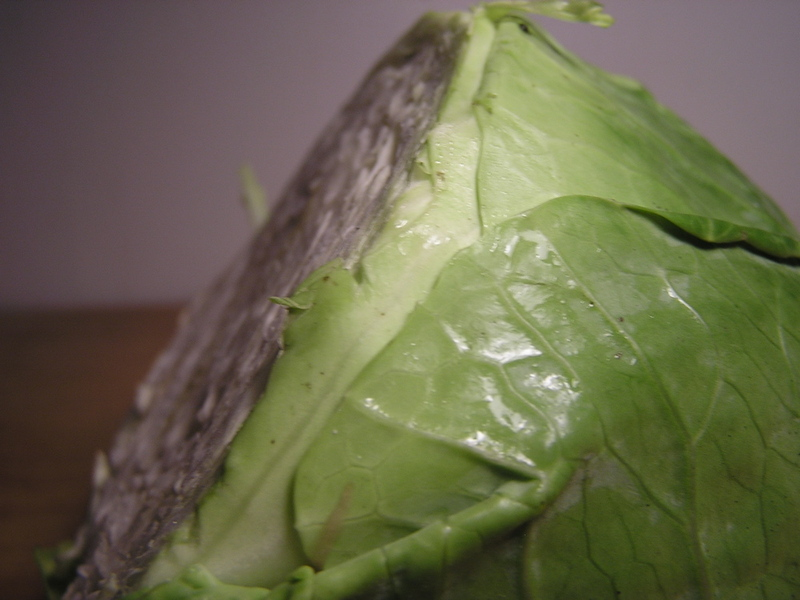cabbage: (39, 1, 798, 598)
